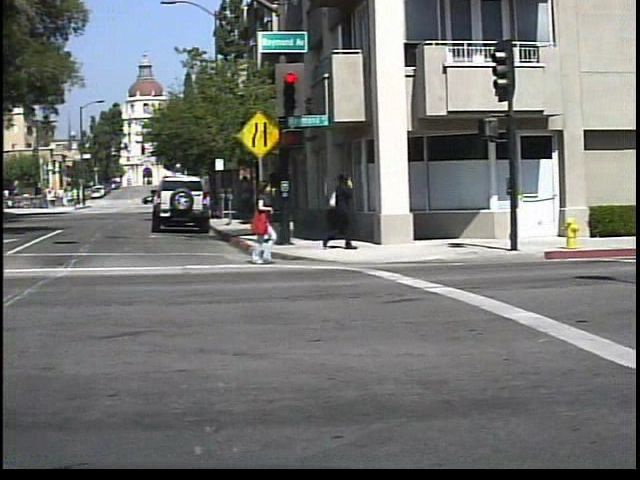person: (244, 177, 294, 267), (326, 167, 366, 253)
